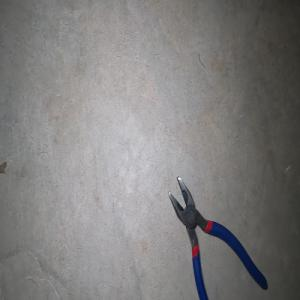Pliers: (167, 176, 268, 300)
